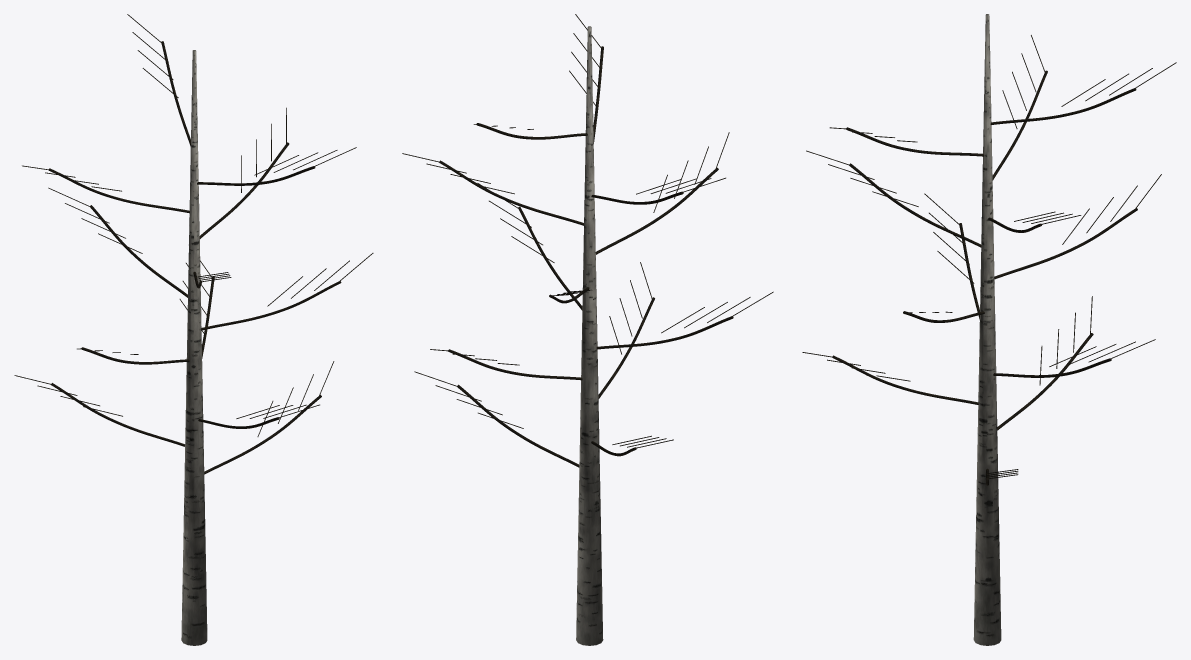
Rendered from birch.glb.
3 renders of one model, left to right at view 1: azimuth 30°, elevation 25°; view 2: azimuth 150°, elevation 25°; view 3: azimuth 270°, elevation 25°, orthographic. The views are drawn at different scales.
Parts seen in each view (by area): view 1: Trunk.003; view 2: Trunk.003, Bare branch.008; view 3: Trunk.003, Bare branch.006, Bare branch.007.
Part boxes in pixels (x1=…): Trunk.003: x1=181, y1=50, x2=207, y2=645; Trunk.003: x1=576, y1=26, x2=603, y2=645; Bare branch.008: x1=439, y1=160, x2=583, y2=225; Trunk.003: x1=973, y1=14, x2=1001, y2=645; Bare branch.006: x1=994, y1=207, x2=1137, y2=279; Bare branch.007: x1=849, y1=163, x2=981, y2=247.
Bounding box in the file's own units: 4.35 × 8 × 4.34.
2 materials, 2 textured.
